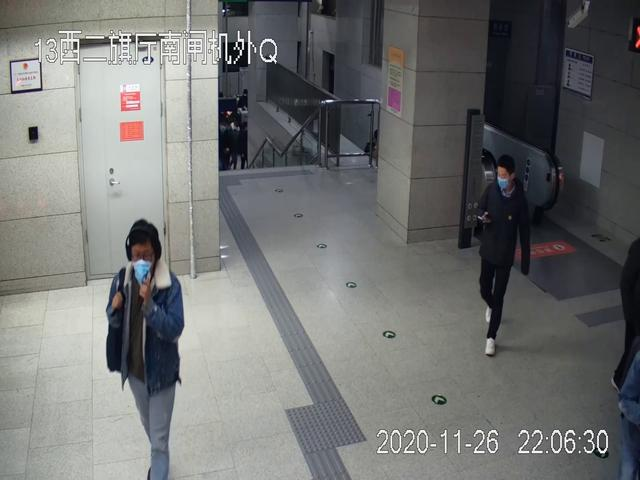person: (106, 218, 185, 480), (478, 156, 531, 356)
